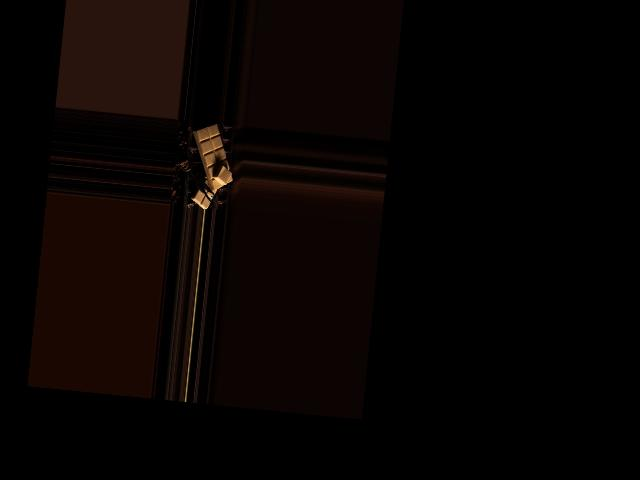chocolate: (188, 122, 237, 194)
